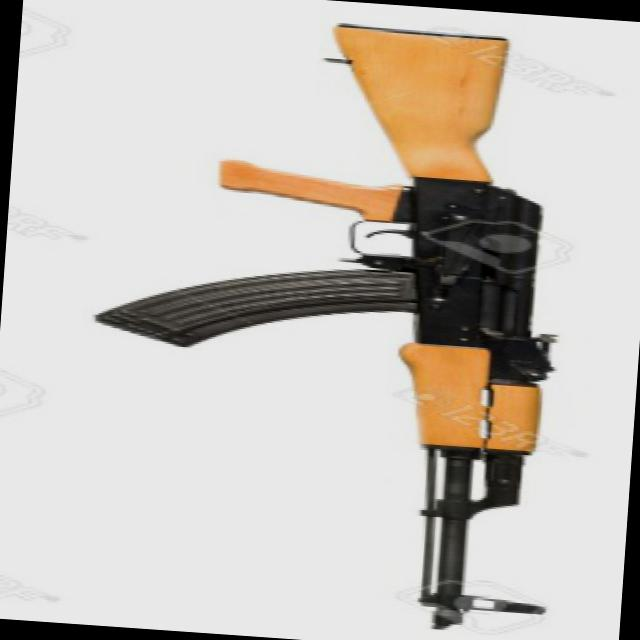long weapon: (72, 1, 599, 639)
